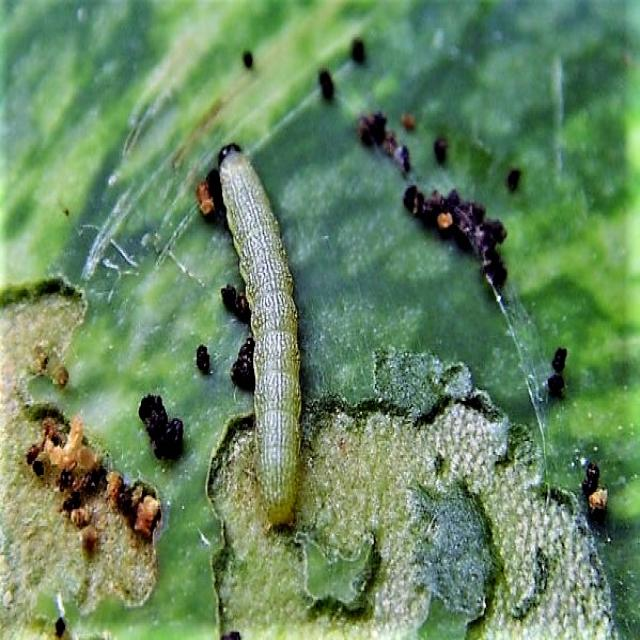armyworm: (216, 140, 302, 528)
